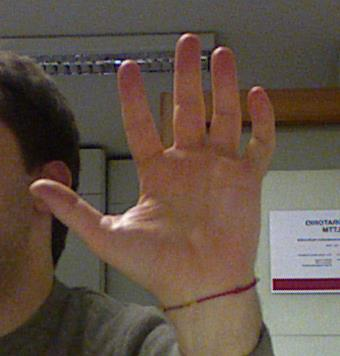down: (25, 28, 282, 287)
